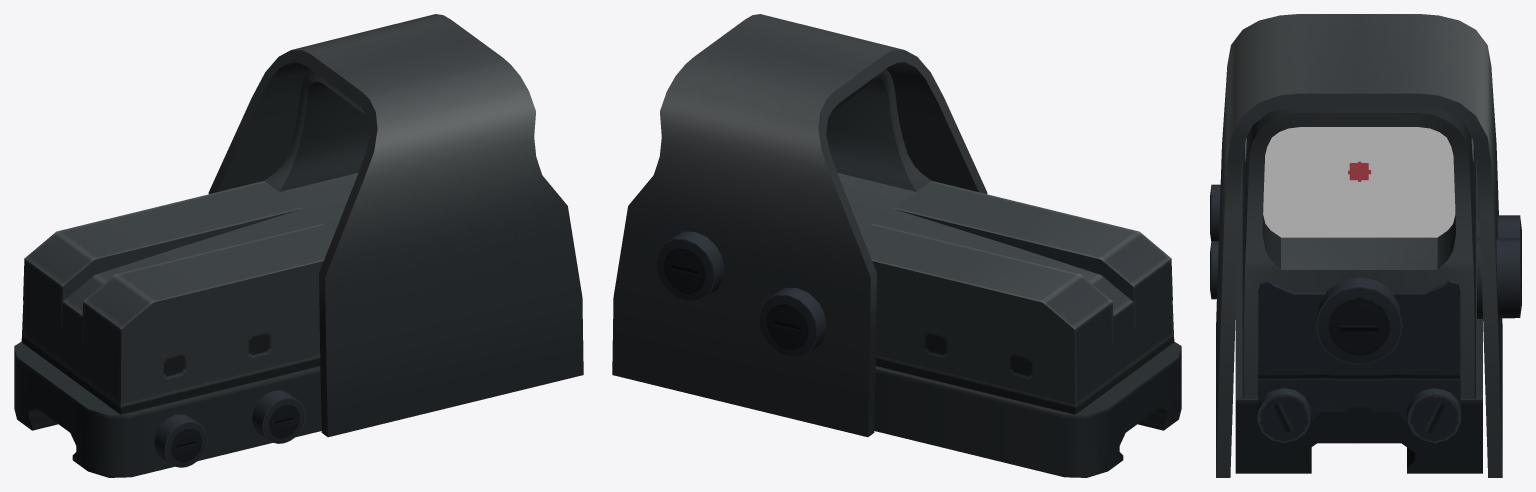
The model's file is Scopes_Holographic_Base_0_Mod.FBX.
3 renders of one model, left to right at view 1: azimuth 30°, elevation 25°; view 2: azimuth 150°, elevation 25°; view 3: azimuth 270°, elevation 25°, orthographic. The views are drawn at different scales.
Parts seen in each view (by area): view 1: Scopes_Holographic_Base_0_Mod; view 2: Scopes_Holographic_Base_0_Mod; view 3: Scopes_Holographic_Base_0_Mod, Lens_Holographic_Base_0_Mod.
Part boxes in pixels (x1,y1,x2,y2): Scopes_Holographic_Base_0_Mod: (14,14,583,477); Scopes_Holographic_Base_0_Mod: (612,14,1181,477); Scopes_Holographic_Base_0_Mod: (1210,14,1521,477); Lens_Holographic_Base_0_Mod: (1263,127,1455,237).
Size of the model in its own units: 16.56 by 10.16 by 8.02.
